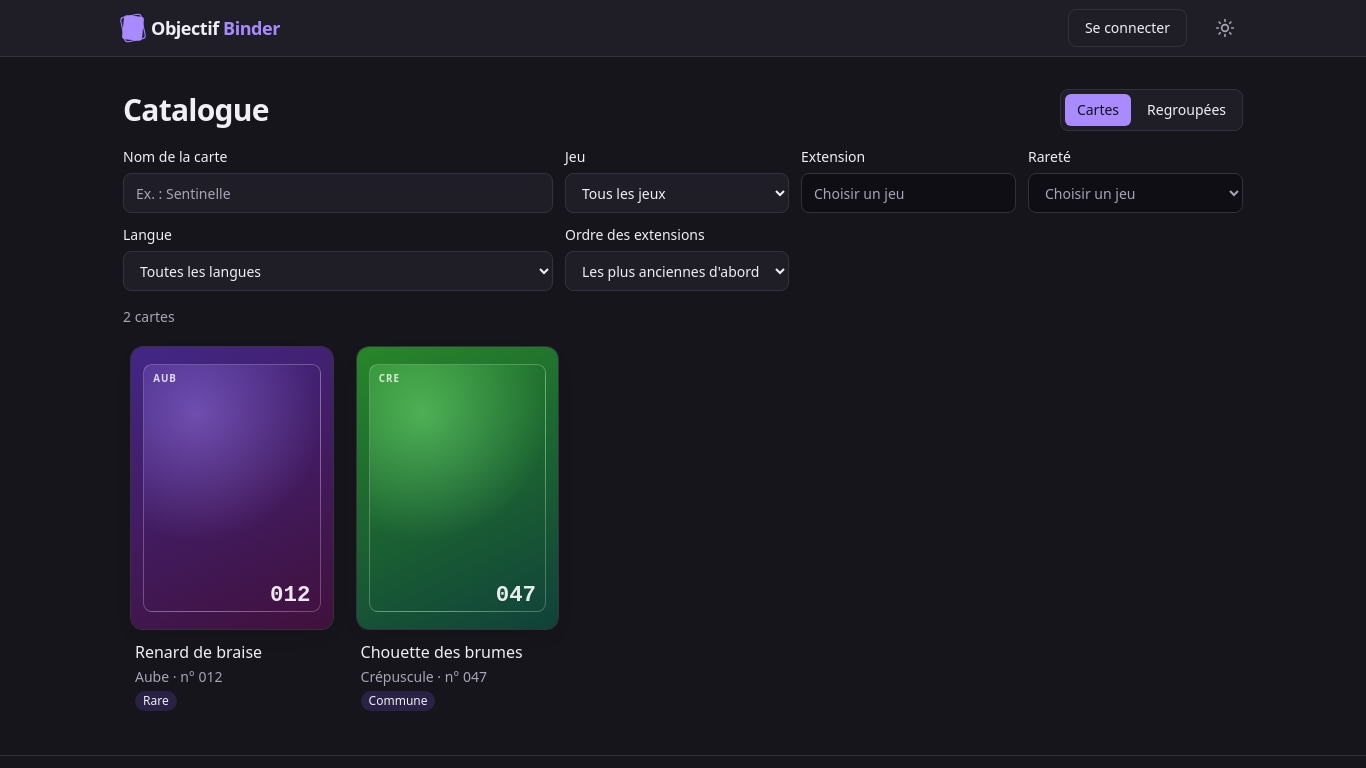
Test: grouped catalogue (one entry per identity) › is one click away from the list of cards, under a generic name without a game
expect the heading "Renard de braise" is shown: met, box [135,641,262,663]
Step 1. Click the link "Regroupées" → (1186, 110), box [1147,100,1226,119]
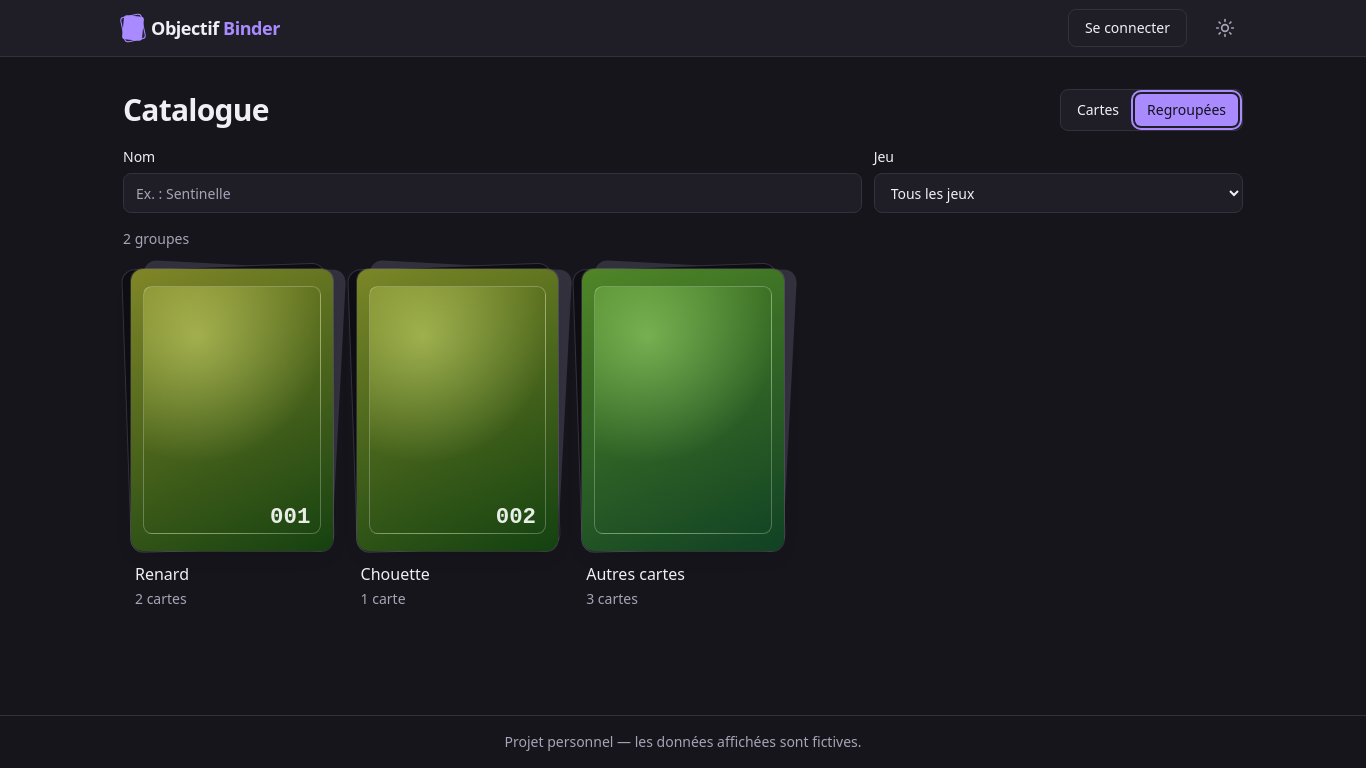
expect the message reads "2 groupes": met, box [123,229,189,248]
